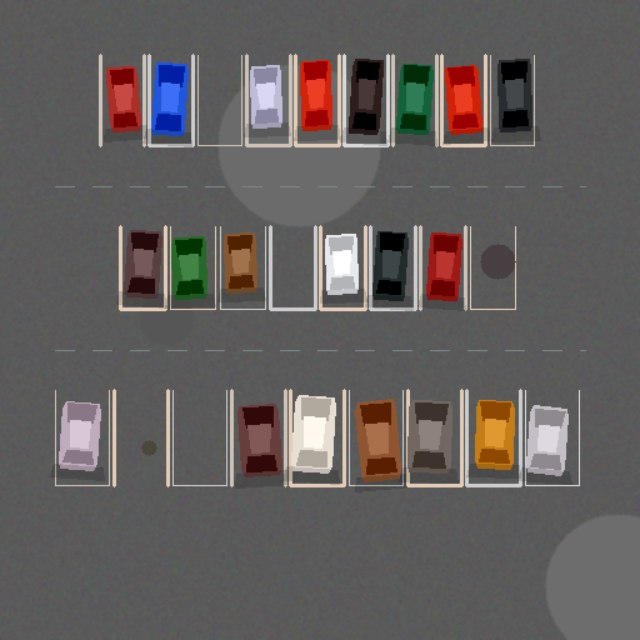space-empty: (114, 390, 168, 485), (172, 390, 226, 485), (197, 55, 241, 145), (270, 226, 315, 309), (470, 226, 515, 309)
space-occupied: (55, 390, 109, 485), (231, 390, 285, 485), (290, 390, 344, 485), (466, 390, 520, 485), (525, 390, 579, 485), (349, 390, 402, 485), (408, 390, 461, 485), (100, 55, 144, 145), (149, 55, 193, 145), (246, 55, 290, 145), (295, 55, 339, 145), (441, 55, 485, 145), (490, 55, 534, 145), (344, 55, 387, 145), (393, 55, 436, 145), (120, 226, 165, 309), (170, 226, 215, 309), (220, 226, 265, 309), (320, 226, 365, 309), (370, 226, 415, 309), (420, 226, 465, 309)
